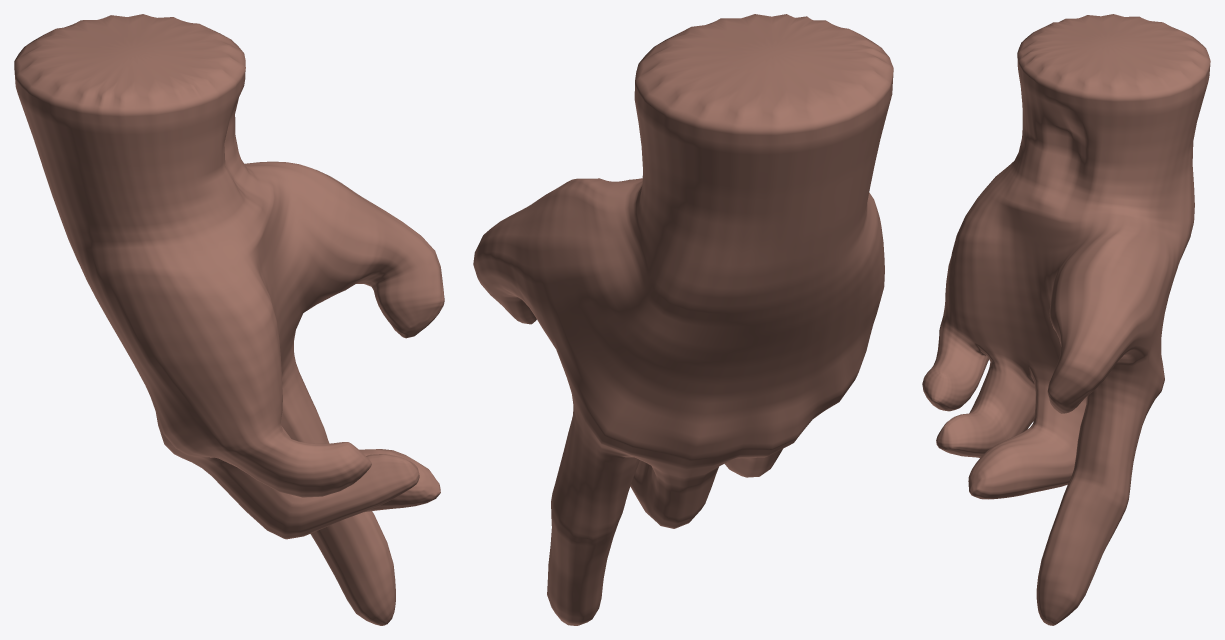
Rendered from Hand 1.fbx.
3 views of the same model, side by side, from view 1: azimuth 30°, elevation 25°; view 2: azimuth 150°, elevation 25°; view 3: azimuth 270°, elevation 25° (orthographic). The views are drawn at different scales.
Parts seen in each view (by area): view 1: Circle; view 2: Circle; view 3: Circle.
Part boxes in pixels (<box>): Circle: <box>14,14,444,625</box>; Circle: <box>473,14,893,625</box>; Circle: <box>922,14,1210,625</box>.
Bounding box in the file's own units: 173 × 259 × 136.
